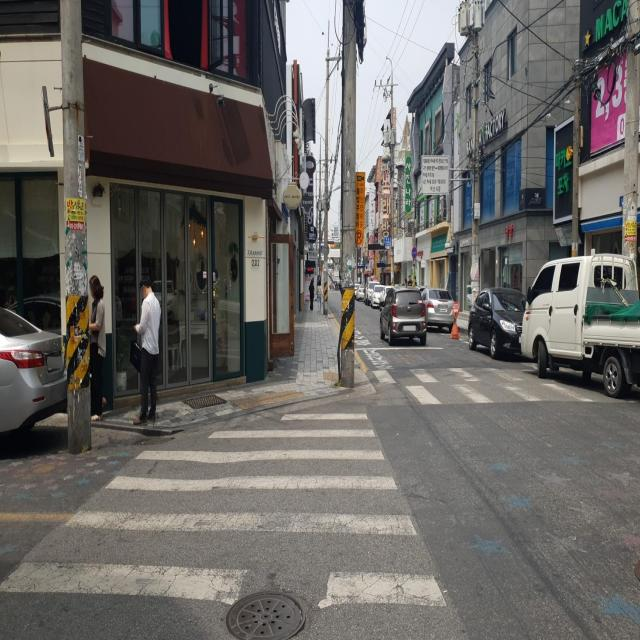횡단보도: (0, 409, 448, 613), (360, 353, 606, 400)
